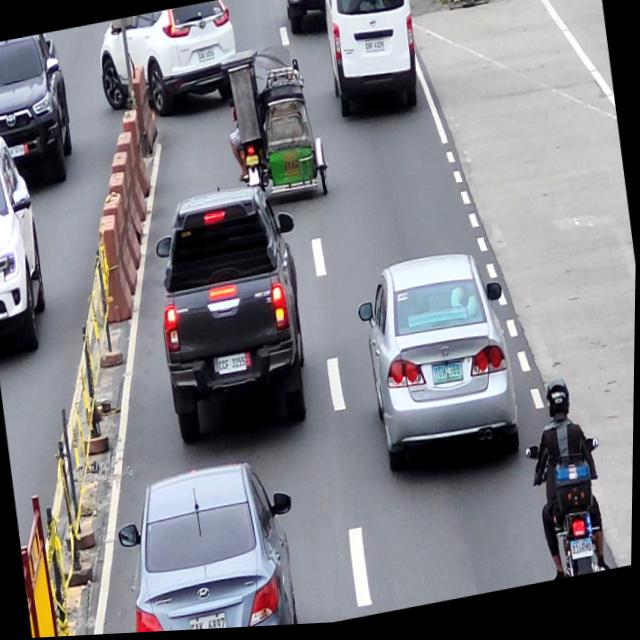Car: (143, 175, 324, 454), (353, 249, 528, 487), (111, 455, 311, 635), (93, 0, 245, 125), (318, 0, 425, 128)
License-Plate: (433, 363, 466, 394), (190, 614, 232, 632), (218, 356, 249, 379), (572, 544, 596, 567), (364, 39, 386, 58), (197, 50, 216, 65), (245, 157, 260, 170)
Motorcycle: (525, 439, 618, 588)
Tricycle: (220, 41, 335, 217)
